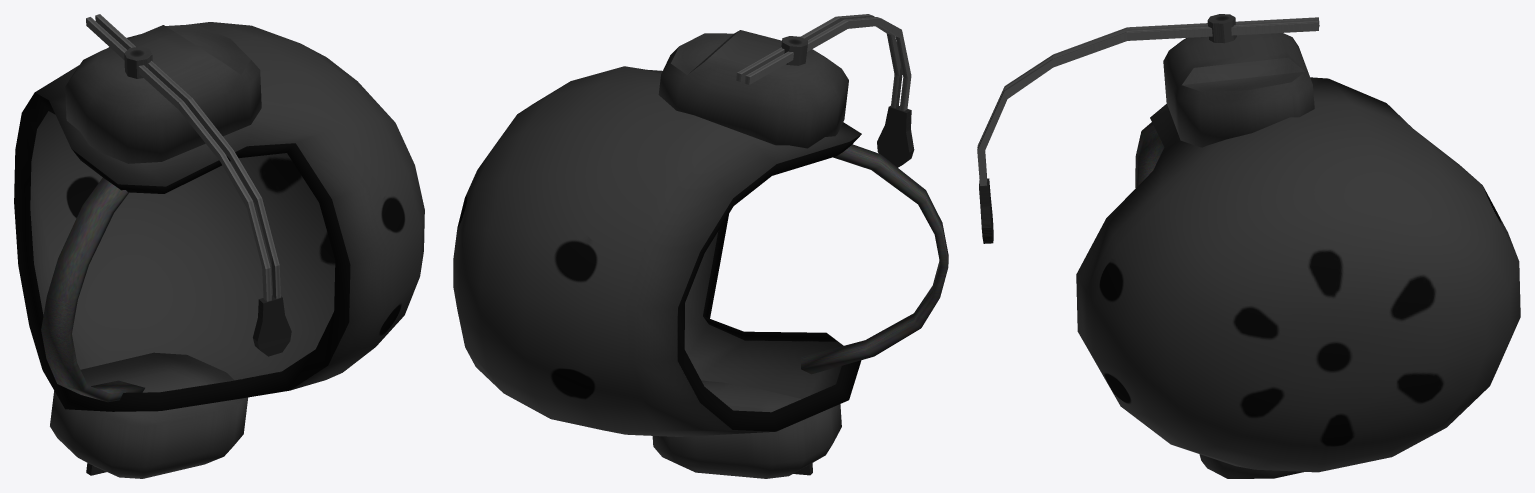
Rendered from BumpHelmet2.fbx.
3 renders of one model, left to right at view 1: azimuth 30°, elevation 25°; view 2: azimuth 150°, elevation 25°; view 3: azimuth 270°, elevation 25°, orthographic. The views are drawn at different scales.
Parts seen in each view (by area): view 1: Cube.001; view 2: Cube.001; view 3: Cube.001.
Part boxes in pixels (<box>): Cube.001: <box>14,14,424,478</box>; Cube.001: <box>453,14,948,478</box>; Cube.001: <box>977,14,1520,478</box>.
Bounding box in the file's own units: 0.1764 × 0.1801 × 0.2089.
